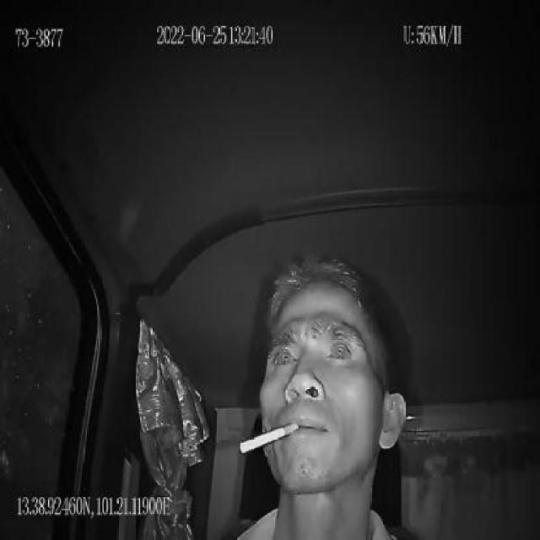smoking: (239, 422, 297, 454)
